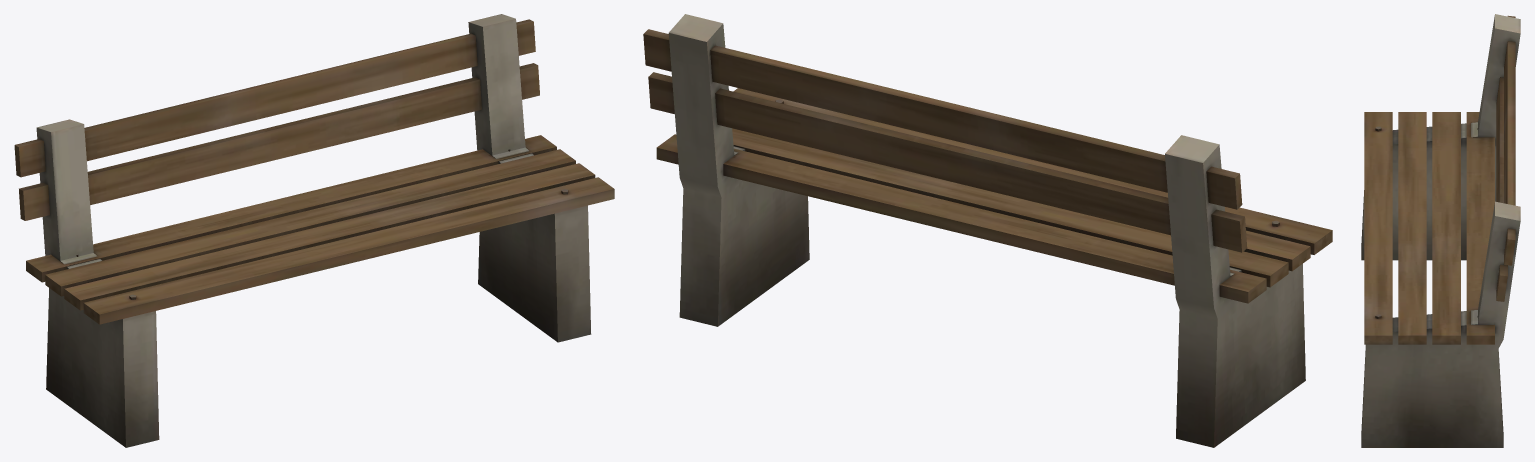
The model's file is bench.glb.
3 views of the same model, side by side, from view 1: azimuth 30°, elevation 25°; view 2: azimuth 150°, elevation 25°; view 3: azimuth 270°, elevation 25° (orthographic). The views are drawn at different scales.
Parts seen in each view (by area): view 1: body; view 2: body; view 3: body.
Part boxes in pixels (x1,y1,x2,y2): body: [14, 14, 614, 447]; body: [643, 14, 1332, 447]; body: [1361, 14, 1520, 447].
Size of the model in its own units: 1.86 by 0.9 by 0.56.
1 material, 1 textured.
